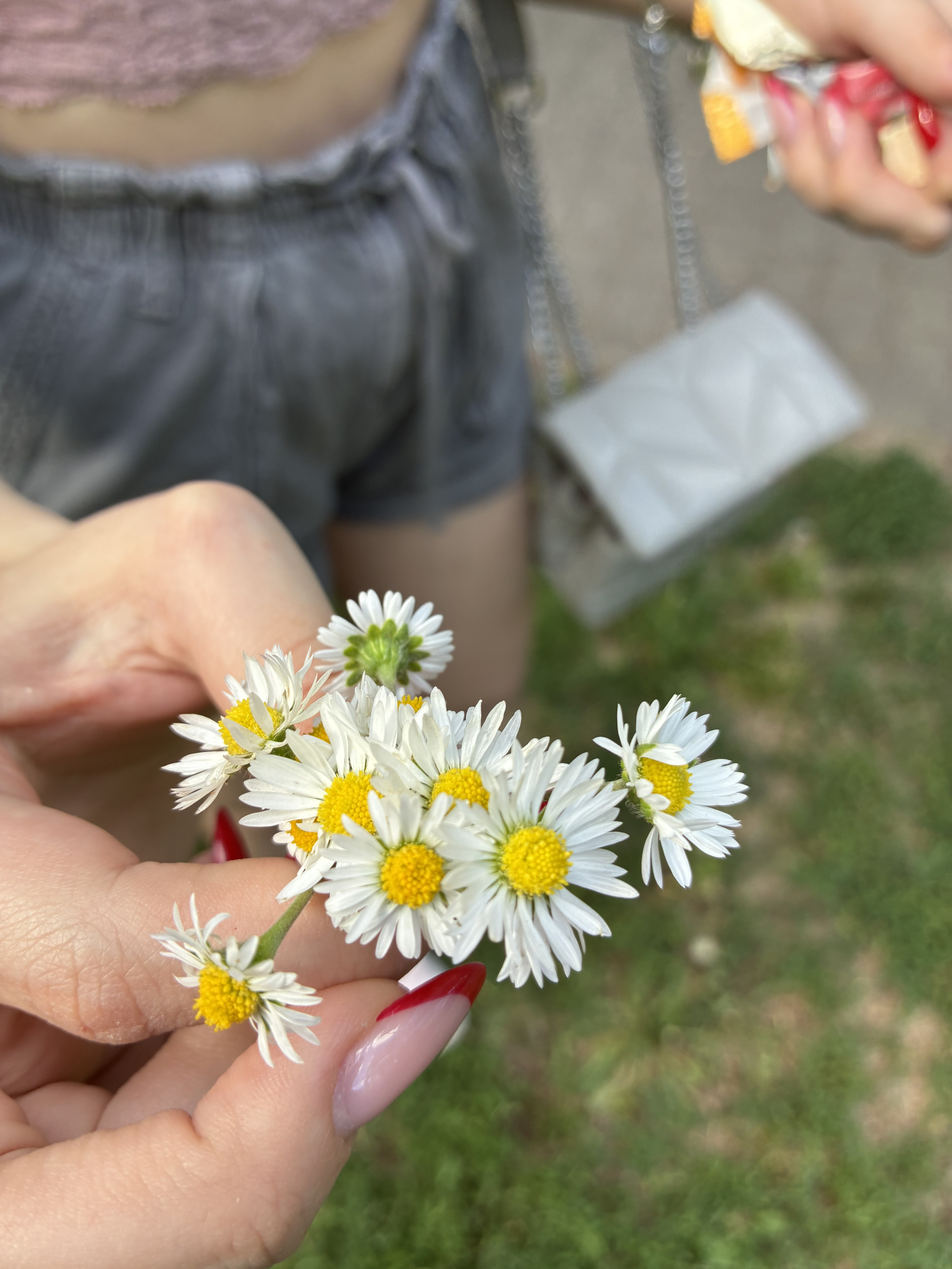daisy: (442, 740, 633, 1000), (595, 679, 766, 908), (226, 717, 428, 901), (149, 893, 341, 1083), (155, 645, 342, 833), (318, 793, 492, 976), (384, 703, 564, 843), (313, 581, 459, 706)
